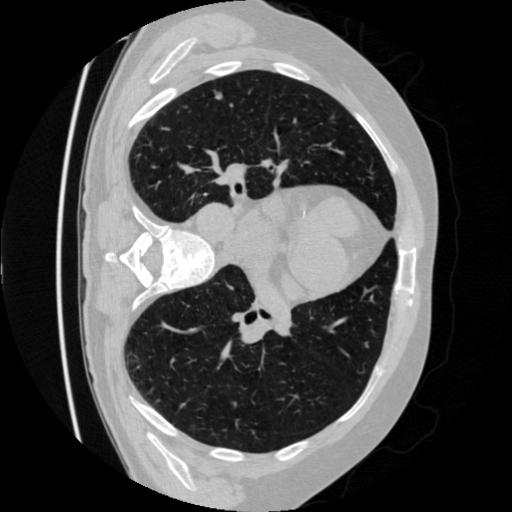nodule: (214, 92, 226, 104)
